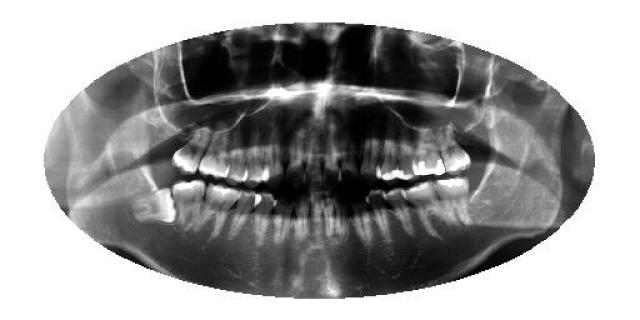Fillings: (435, 174, 479, 231), (419, 125, 445, 179)
Restorations: (132, 188, 176, 226)
